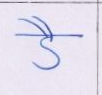e_matra: (18, 16, 57, 35)
